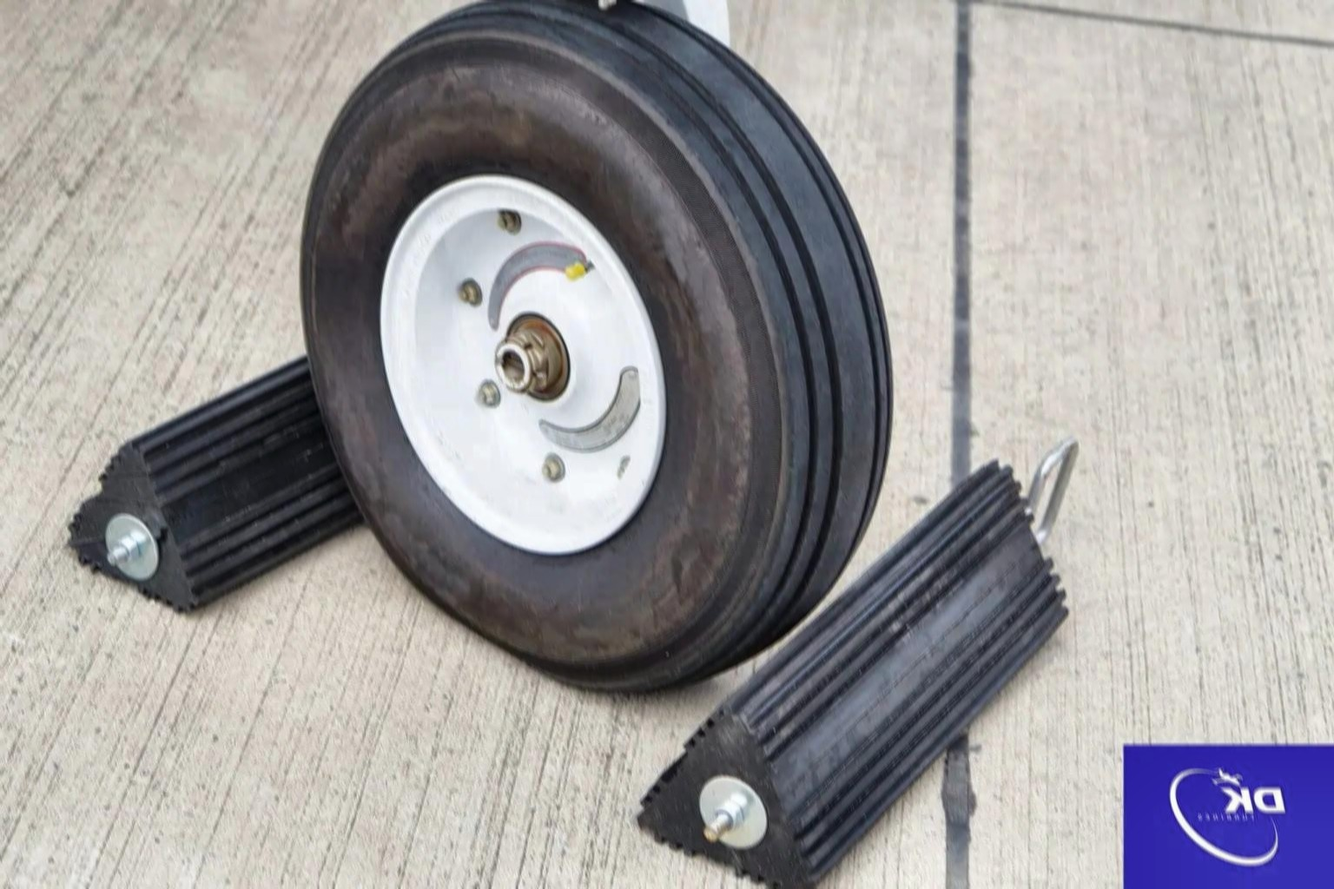chock: (633, 458, 1071, 889), (64, 340, 480, 615)
wheel: (296, 2, 896, 701)
